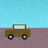vehicle: (5, 25, 30, 40)
